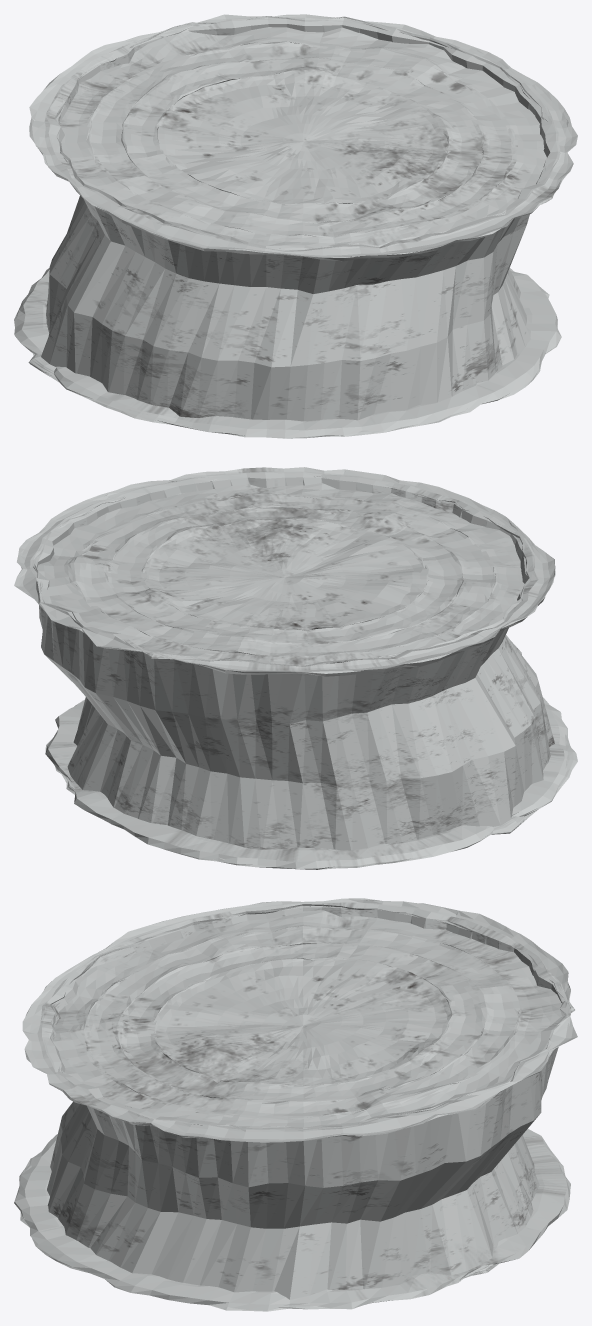
Rendered from crush_high_1.obj.
3 renders of one model, top to bottom at view 1: azimuth 30°, elevation 25°; view 2: azimuth 150°, elevation 25°; view 3: azimuth 270°, elevation 25°, orthographic. The views are drawn at different scales.
Visible parts, largest first — view 1: Cam_l__0; view 2: Cam_l__0; view 3: Cam_l__0.
Part boxes in pixels (x1,y1,x2,y2): Cam_l__0: (14,14,577,438); Cam_l__0: (14,467,577,869); Cam_l__0: (14,898,577,1311).
Size of the model in its own units: 0.0993 by 0.0392 by 0.0971.
1 material, 1 textured.
